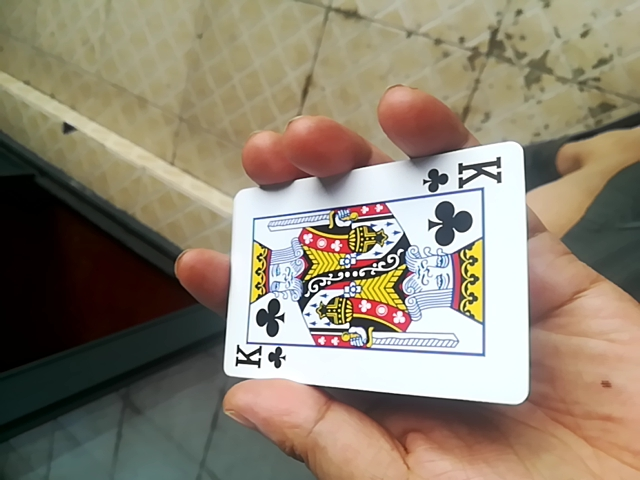mh k: (226, 148, 525, 400)
